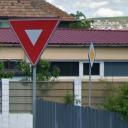preferencia: (7, 13, 63, 71)
